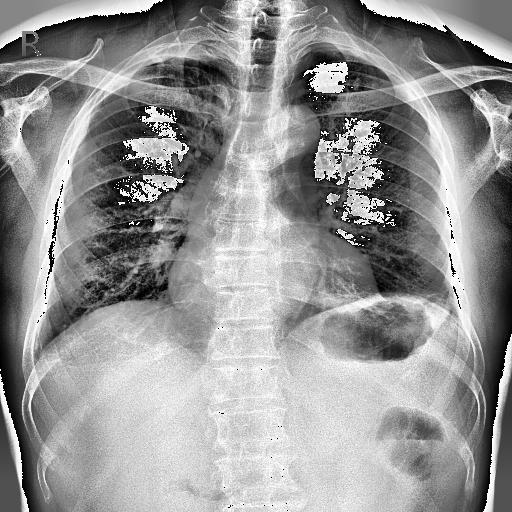0- Aortic enlargement: (260, 104, 320, 170), (265, 105, 320, 168), (267, 104, 320, 158)
11- Pleural thickening: (128, 42, 238, 70)
13- Pulmonary fibrosis: (188, 66, 222, 120)
3- Cardiomegaly: (166, 256, 378, 316)
8- Nodule-Mass: (352, 79, 358, 91)
9- Other lesion: (352, 79, 358, 91)
